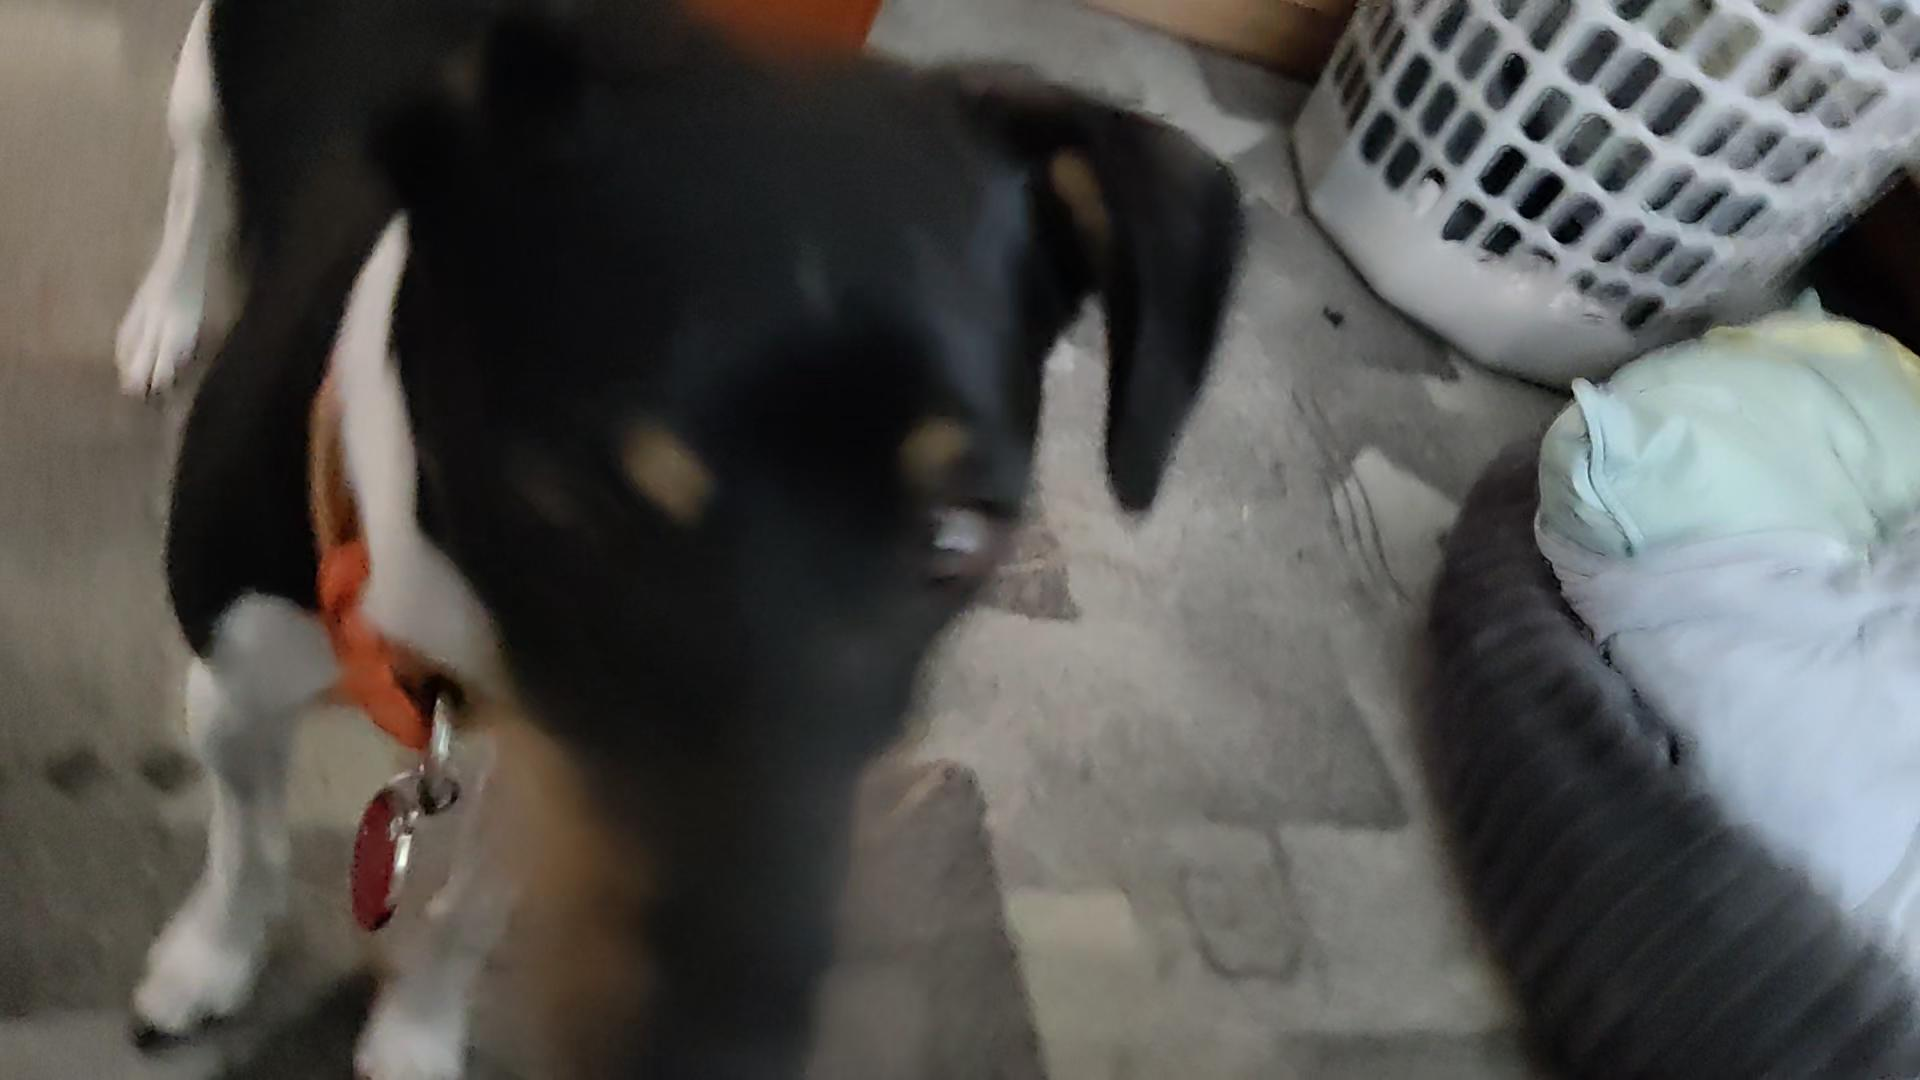Dog: (69, 0, 1284, 1079)
